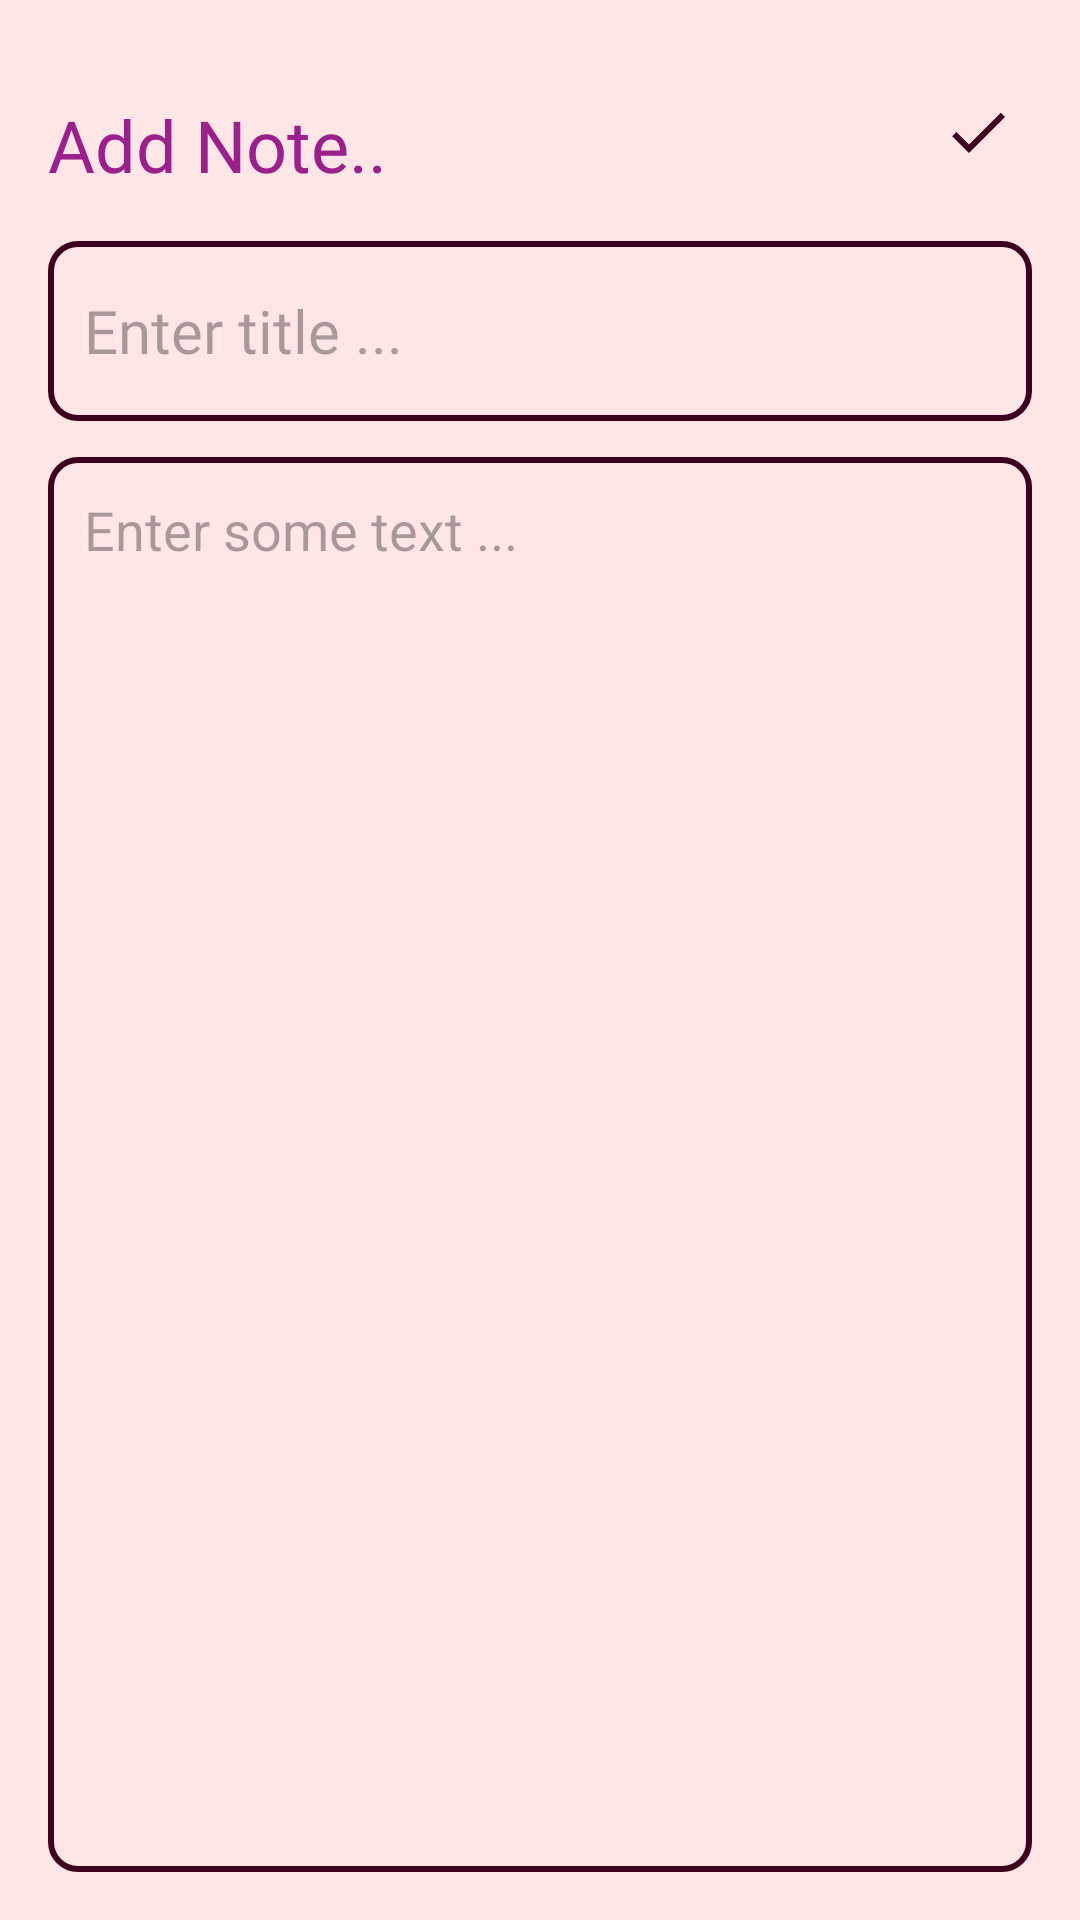

Where to tap for icons on this 1080px x 1920px app screen, as (x,y):
done: (978,133)
